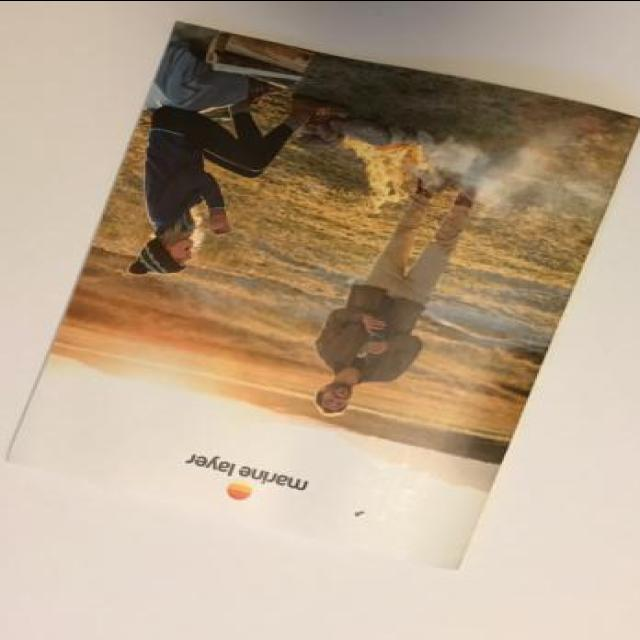kertas: (1, 20, 640, 573)
